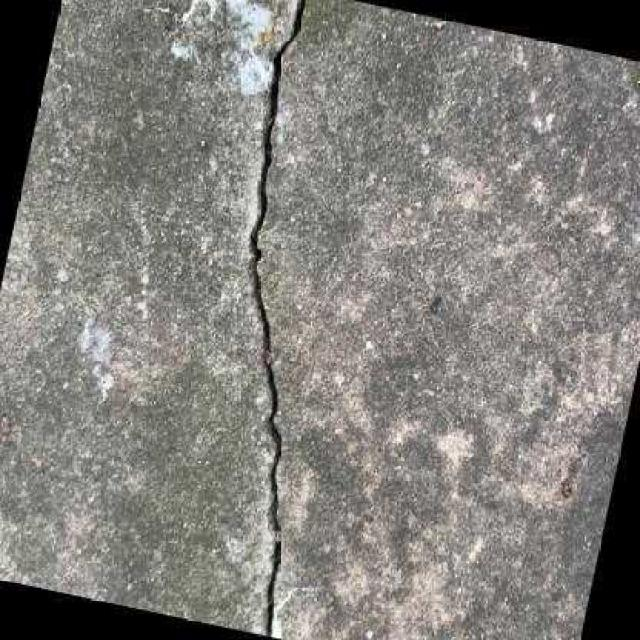D00: (246, 0, 310, 637)
